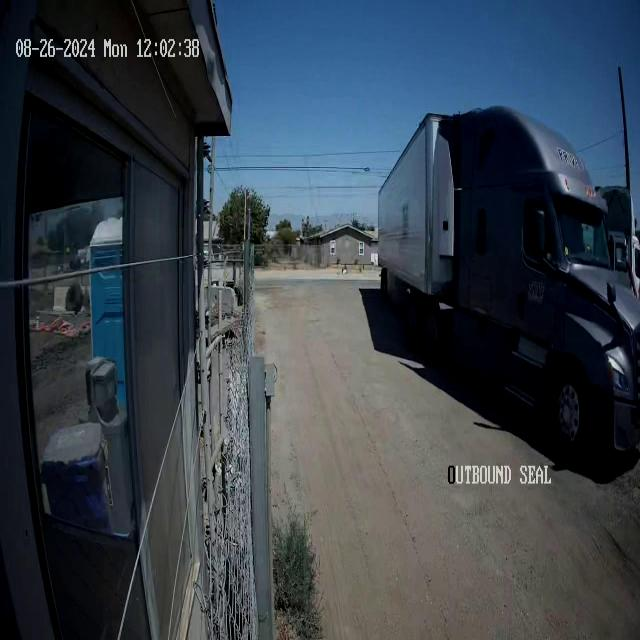CONTAINER: (376, 101, 457, 301)
